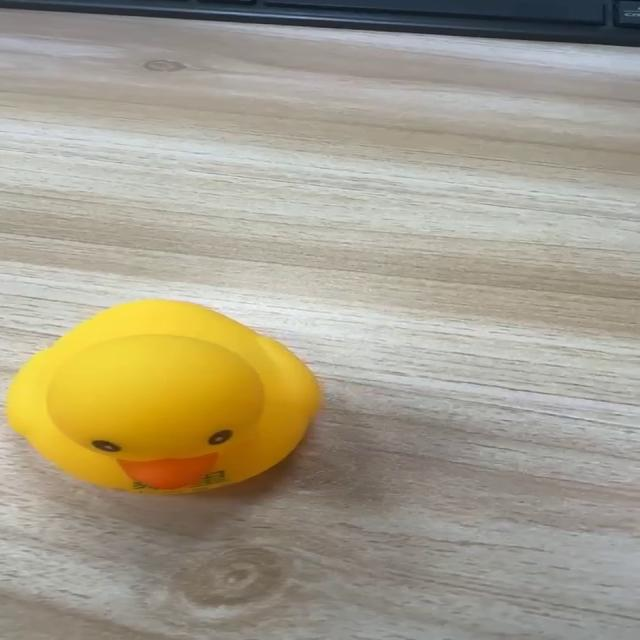yellow_duck: (5, 297, 322, 496)
